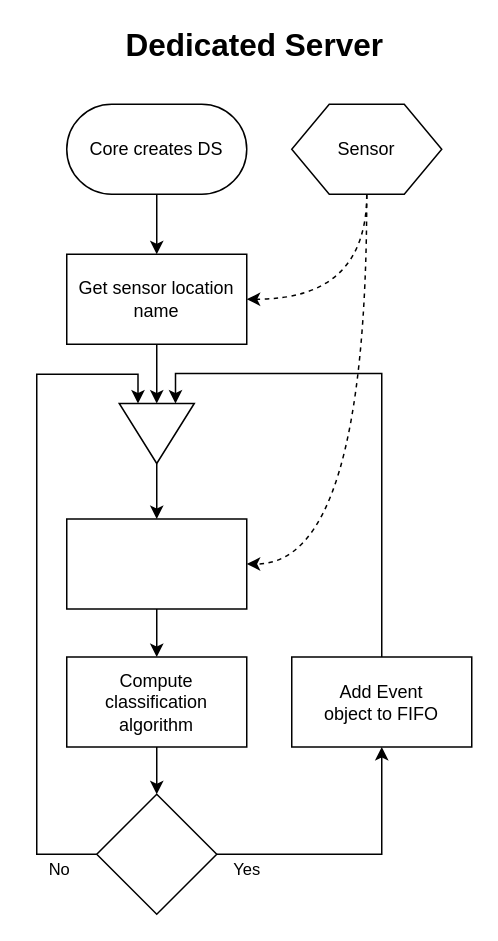
Image size: 498x941. Some labels were removed from this diagram. Each missing label, with the centre of its shape:
"Is an event?" goes at point (156, 853).
"Wait for data" goes at point (156, 563).
